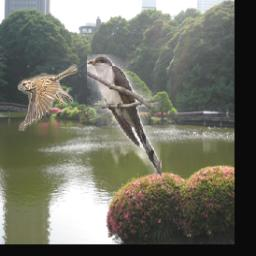Cuckoo: (87, 54, 162, 176)
Sparrow: (18, 63, 78, 132)
